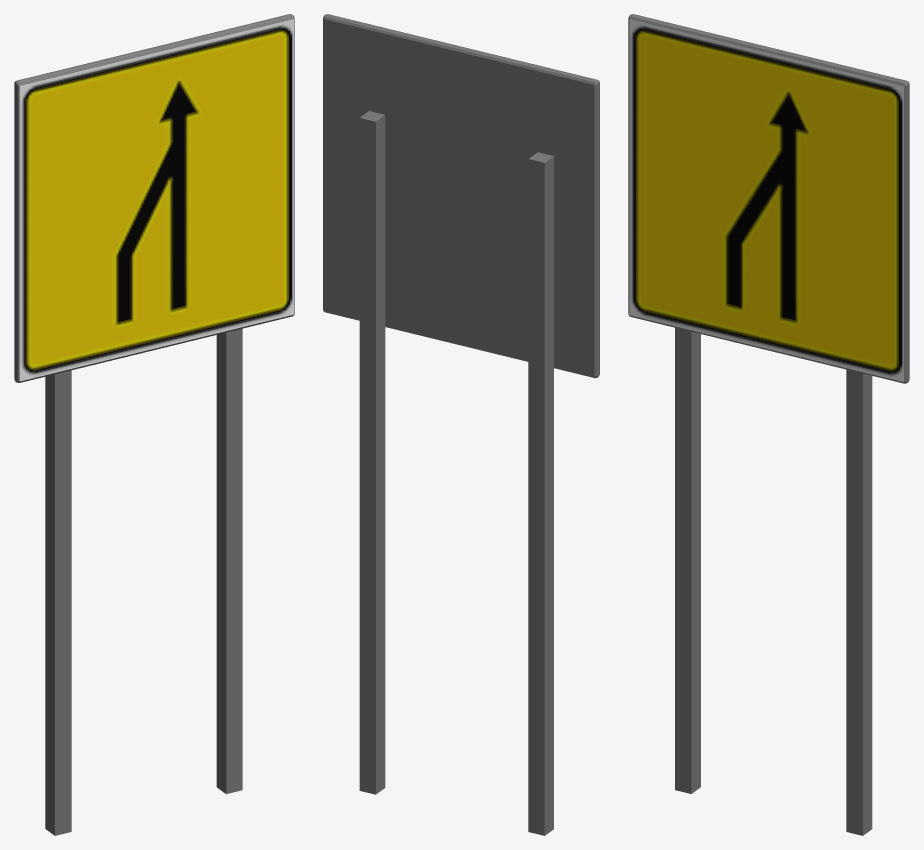
File: LanesMerging.obj
3 renders of one model, left to right at view 1: azimuth 30°, elevation 25°; view 2: azimuth 150°, elevation 25°; view 3: azimuth 330°, elevation 25°, orthographic.
Parts seen in each view (by area): view 1: Sign_LanesMerging; view 2: Sign_LanesMerging; view 3: Sign_LanesMerging.
Part boxes in pixels (left/top/right/bottom): Sign_LanesMerging: left=14, top=14, right=294, bottom=835; Sign_LanesMerging: left=323, top=14, right=599, bottom=835; Sign_LanesMerging: left=628, top=14, right=909, bottom=835.
Size of the model in its own units: 1.9 by 4.99 by 0.1734.
1 material, 1 textured.
